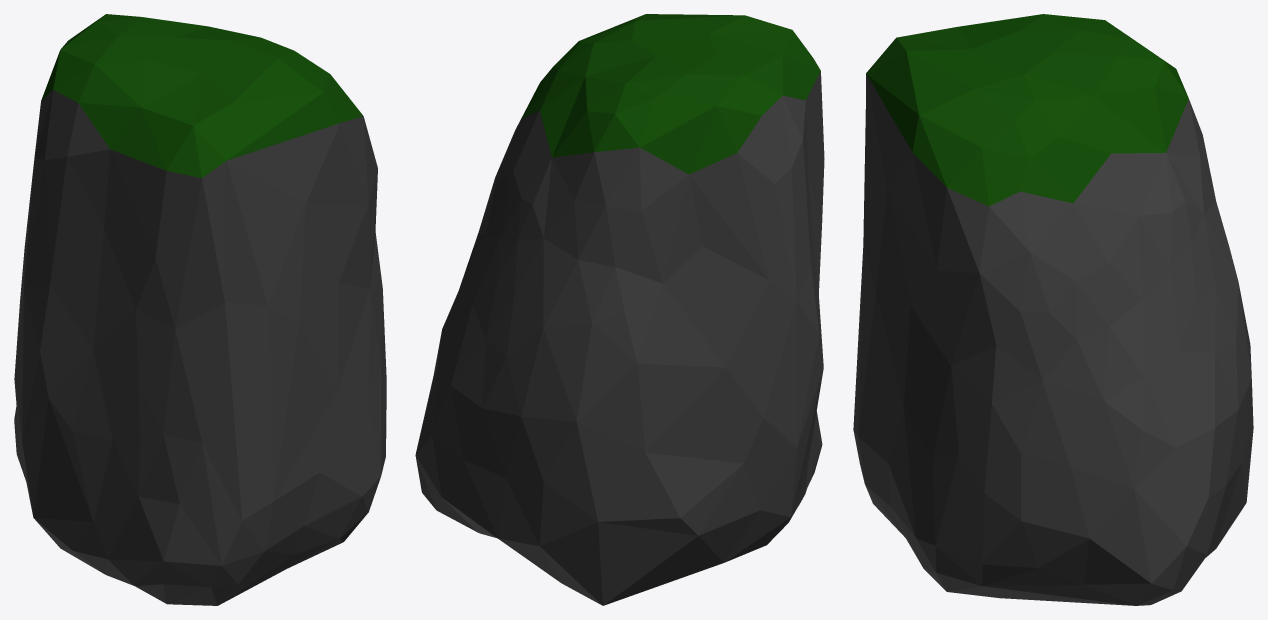
Rendered from HighLandRock3.fbx.
The picture shows the model from 3 angles, left to right: view 1: azimuth 30°, elevation 25°; view 2: azimuth 150°, elevation 25°; view 3: azimuth 270°, elevation 25°; orthographic projection. The views are drawn at different scales.
Parts seen in each view (by area): view 1: HighLandRock3_LOD0; view 2: HighLandRock3_LOD0; view 3: HighLandRock3_LOD0.
Part boxes in pixels (x1=…): HighLandRock3_LOD0: x1=14, y1=14, x2=386, y2=605; HighLandRock3_LOD0: x1=415, y1=14, x2=824, y2=605; HighLandRock3_LOD0: x1=853, y1=14, x2=1253, y2=605.
Size of what is drawn, in the model's own units: 42.59 by 58.91 by 42.4.
